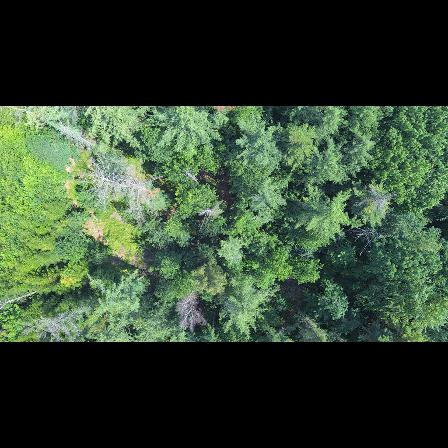Dead: (21, 302, 95, 342), (76, 159, 128, 206), (120, 171, 163, 226), (173, 286, 207, 334), (189, 203, 223, 228)
